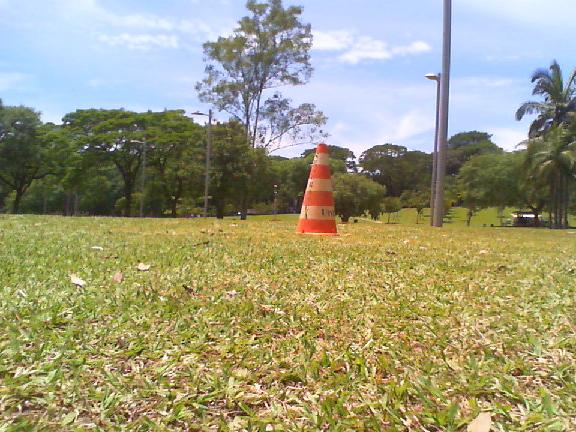0 cone: (295, 141, 340, 235)
